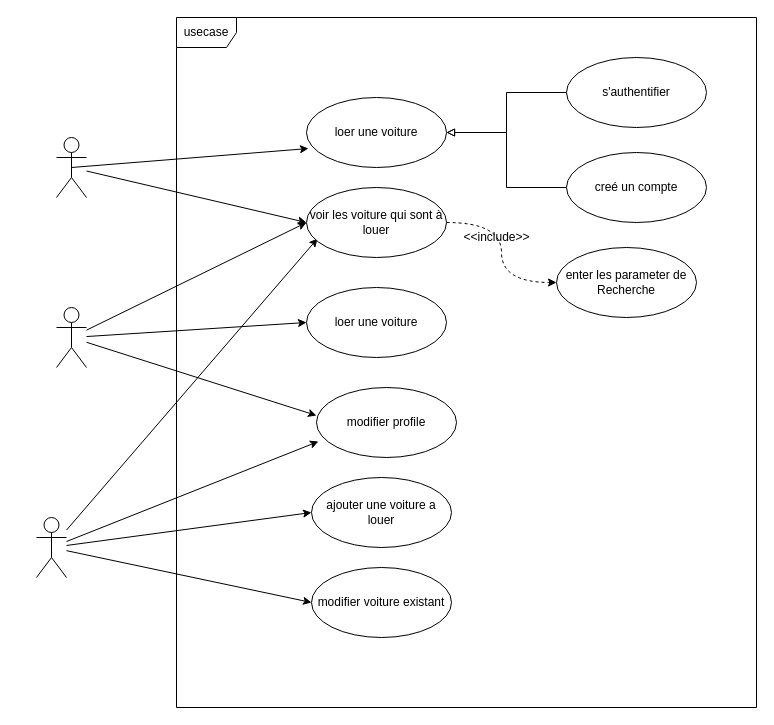
The diagram is 774 pixels wide and 725 high, and some of its shapes have lost their labels. The shapes that lost their labels are listed below. From the top down, each one's centre as x and y in pixels, then its label:
(x=71, y=167): utilisateru non inscrit
(x=71, y=337): utilisateur
(x=51, y=547): locateur
